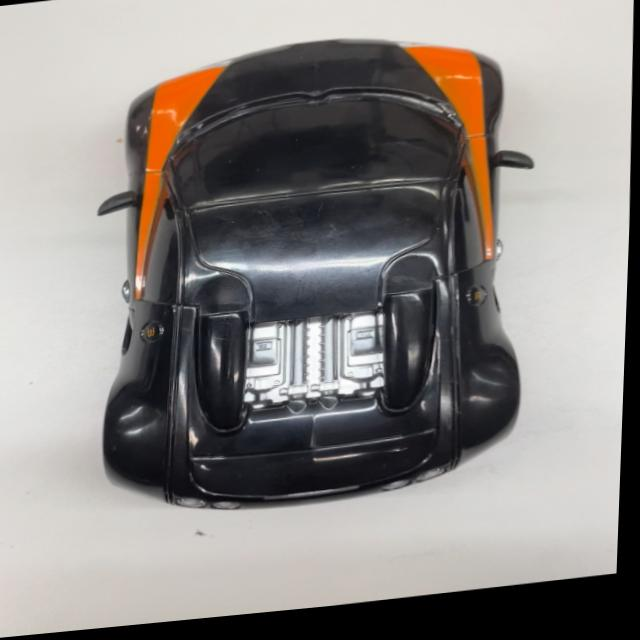vehicle_body: (80, 9, 545, 533)
